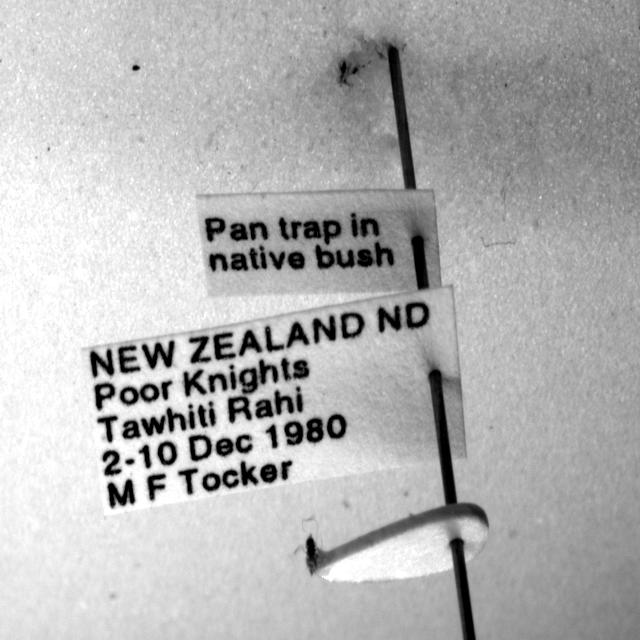typed_label: (82, 287, 465, 514), (196, 189, 441, 296)
